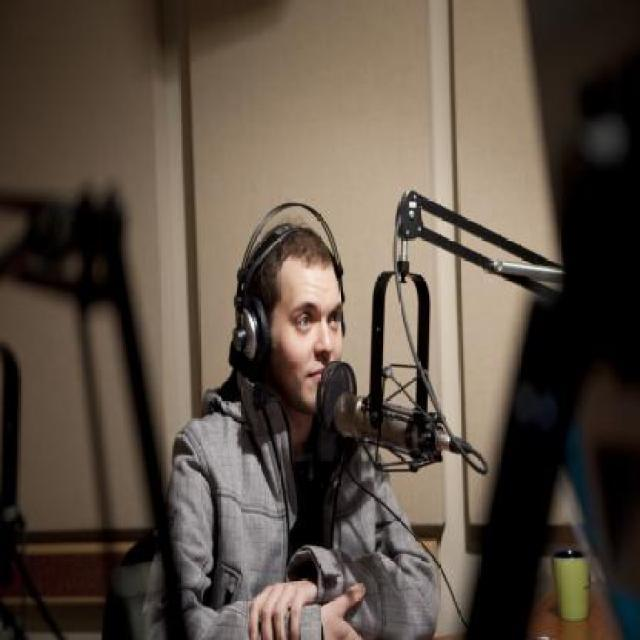earphone: (222, 157, 308, 388)
